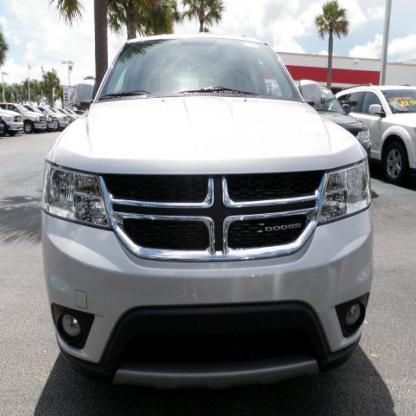Vehicle: (43, 34, 374, 386)
